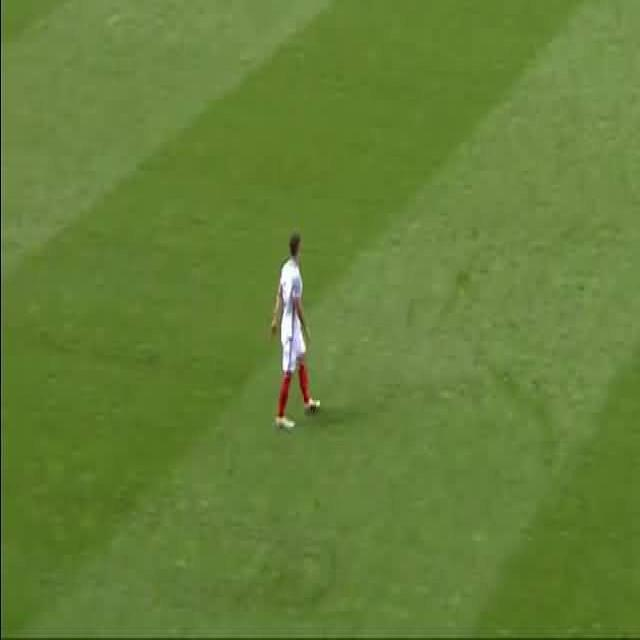player-white: (272, 230, 322, 431)
